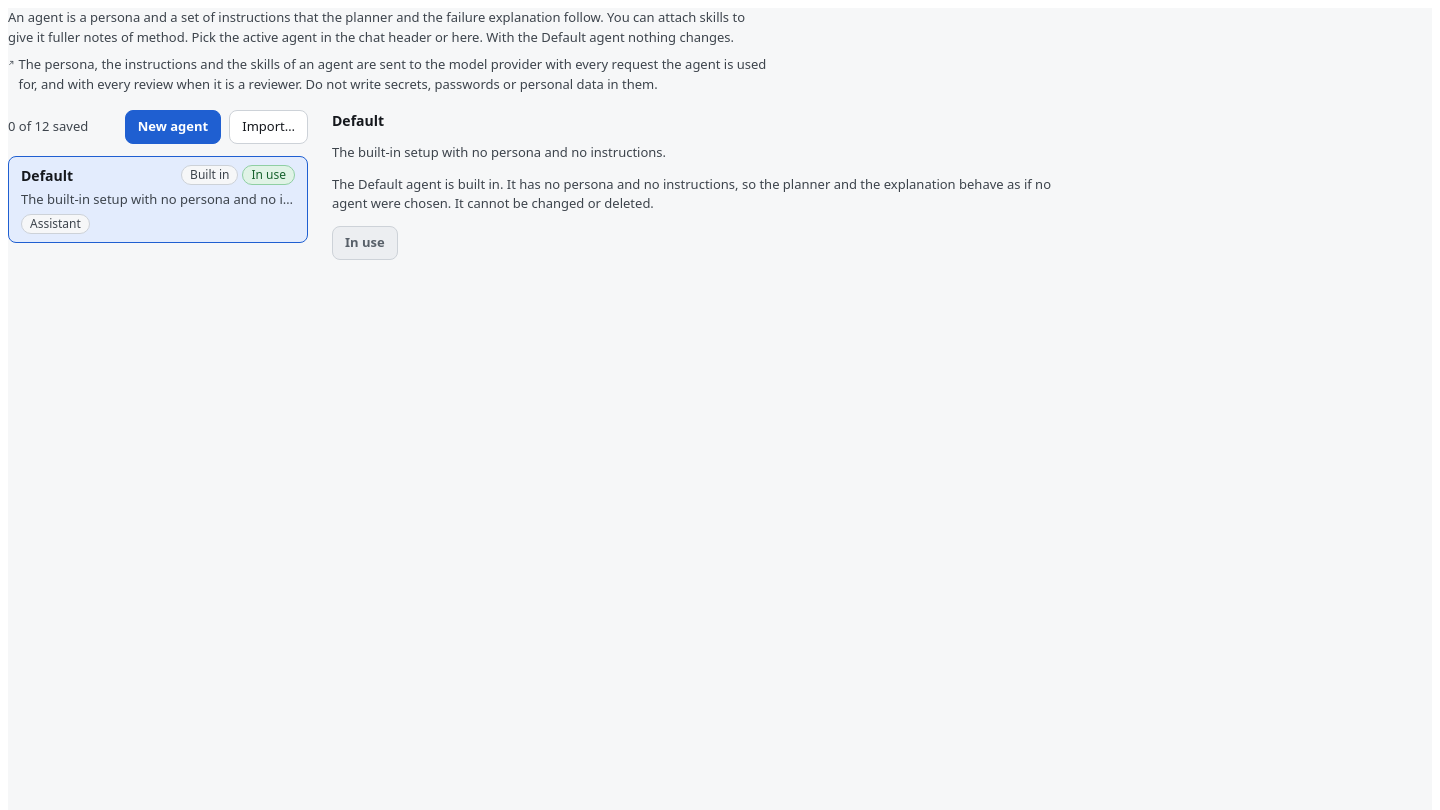
Test case: the review of an imported file › lets the person fix a name problem in the review, and Save turns on
Later steps or results of the test are not shown.
Expected: the list named "Agent list" is shown, [8, 156, 308, 242]
Click the button "Import…".
click(269, 127)  # box [229, 110, 308, 144]
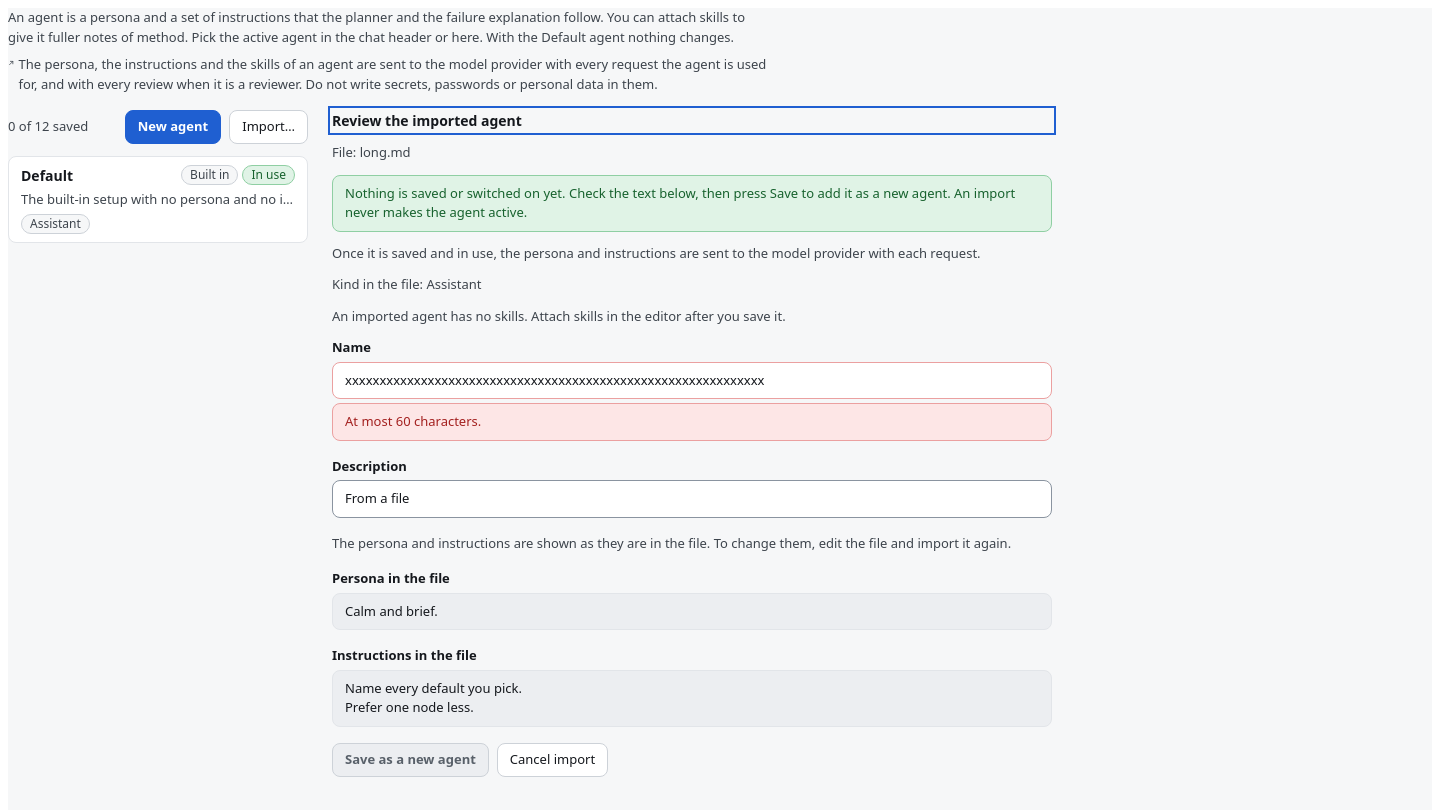
Expected: the heading "Review the imported agent" is shown, [332, 111, 522, 130]
Expected: the text "At most 60 characters." is shown, [332, 403, 1052, 440]
Expected: the button "Save as a new agent" is disabled, [332, 742, 489, 776]
Replace the text in the field labelled "Name" with "Short name" at {"x": 692, "y": 380}, box [332, 362, 1052, 399]
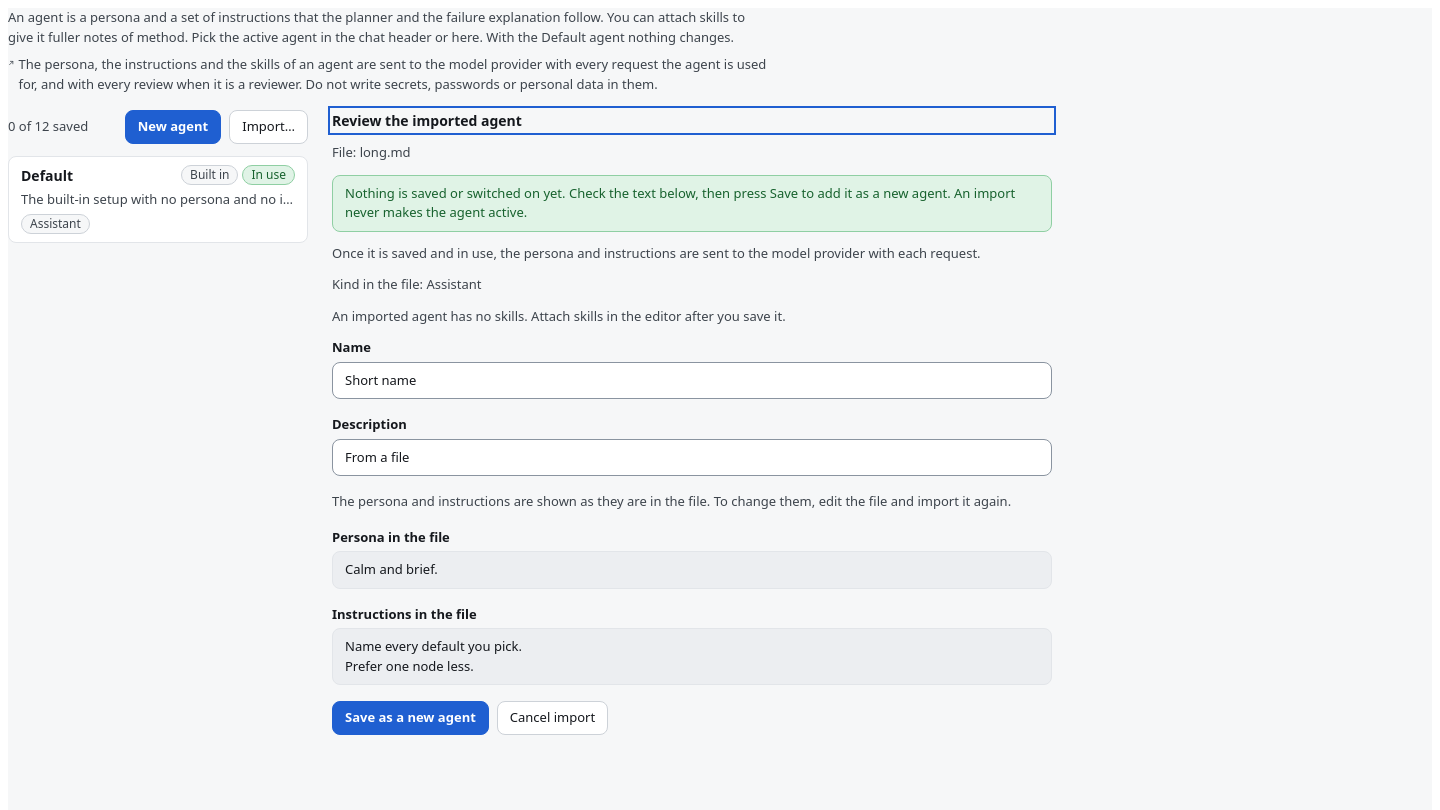
Expected: the text "At most 60 characters." is gone
